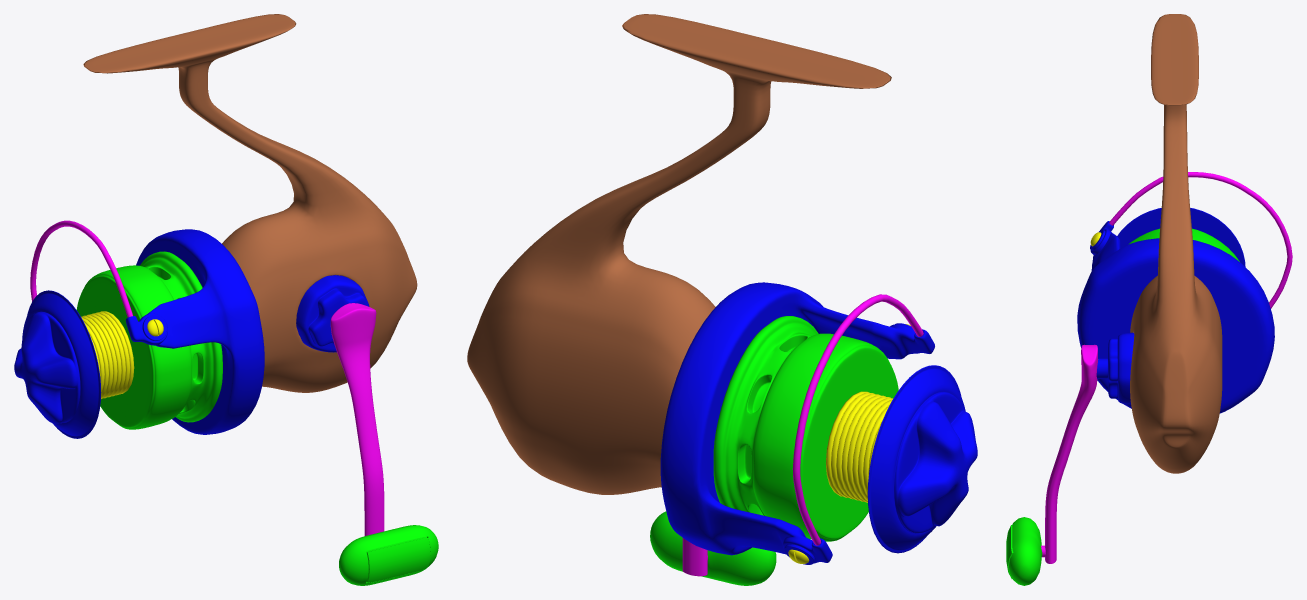
File: Fishing_Reel_Model_One.fbx
3 views of the same model, side by side, from view 1: azimuth 30°, elevation 25°; view 2: azimuth 150°, elevation 25°; view 3: azimuth 270°, elevation 25° (orthographic). The views are drawn at different scales.
Visible parts, largest first — view 1: Part_6, Part_4, Part_3, Part_1, Part_8, Part_9, Part_7, Part_2, Part_5; view 2: Part_6, Part_3, Part_4, Part_1, Part_2, Part_9, Part_5, Part_8; view 3: Part_6, Part_4, Part_8, Part_9, Part_1, Part_7, Part_5, Part_3.
Part boxes in pixels (x1,y1,x2,y2): Part_6: (83, 14, 417, 392); Part_4: (125, 229, 264, 434); Part_3: (76, 251, 222, 429); Part_1: (14, 290, 101, 438); Part_8: (330, 303, 384, 535); Part_9: (339, 525, 438, 585); Part_7: (296, 275, 369, 352); Part_2: (81, 311, 134, 398); Part_5: (30, 220, 132, 317); Part_6: (467, 14, 891, 494); Part_3: (713, 316, 898, 541); Part_4: (660, 282, 934, 564); Part_1: (867, 365, 977, 553); Part_2: (826, 391, 893, 502); Part_9: (650, 511, 776, 585); Part_5: (792, 294, 923, 545); Part_8: (682, 538, 707, 576); Part_6: (1130, 14, 1222, 473); Part_4: (1077, 221, 1274, 413); Part_8: (1041, 344, 1098, 563); Part_9: (1006, 517, 1042, 585); Part_1: (1117, 208, 1245, 266); Part_7: (1096, 332, 1134, 404); Part_5: (1109, 172, 1292, 308); Part_3: (1128, 228, 1239, 261).
Bounding box in the file's own units: 50.74 × 63.41 × 35.63.
